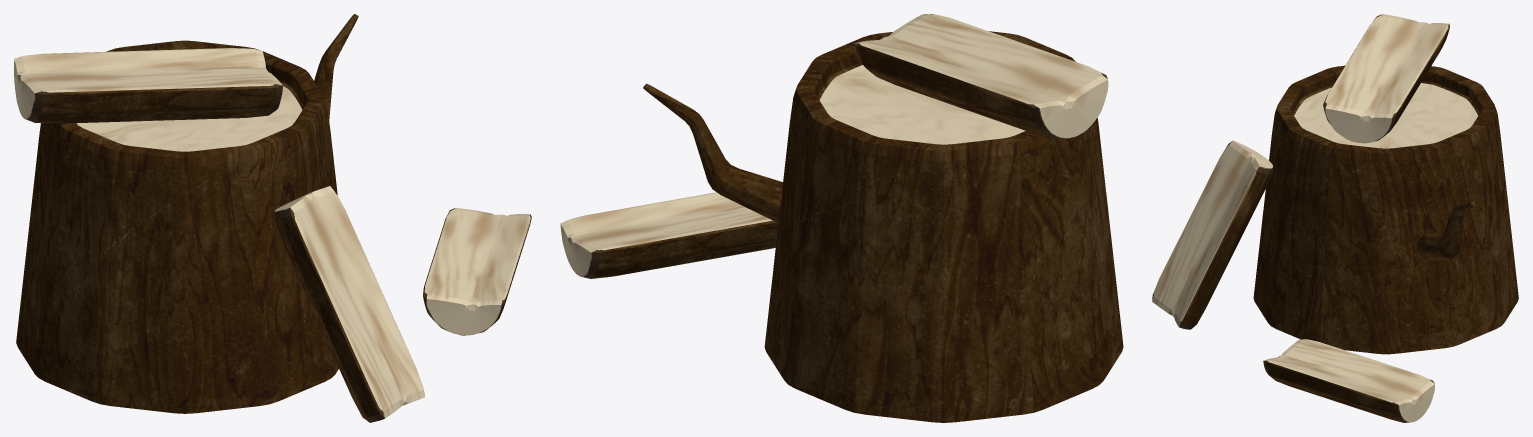
File: Wood.fbx
3 renders of one model, left to right at view 1: azimuth 30°, elevation 25°; view 2: azimuth 150°, elevation 25°; view 3: azimuth 270°, elevation 25°, orthographic. The views are drawn at different scales.
Parts seen in each view (by area): view 1: Wood; view 2: Wood; view 3: Wood.
Part boxes in pixels (x1=…): Wood: x1=14, y1=14, x2=531, y2=422; Wood: x1=560, y1=14, x2=1123, y2=422; Wood: x1=1152, y1=14, x2=1518, y2=422.
Bounding box in the file's own units: 4.09 × 2.23 × 3.27.
Materials: 1 (1 with a texture image).
